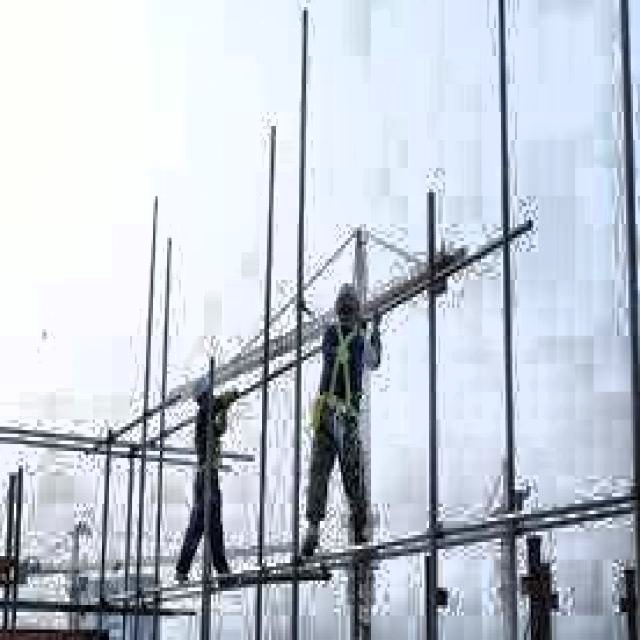safety belt: (314, 328, 394, 460)
